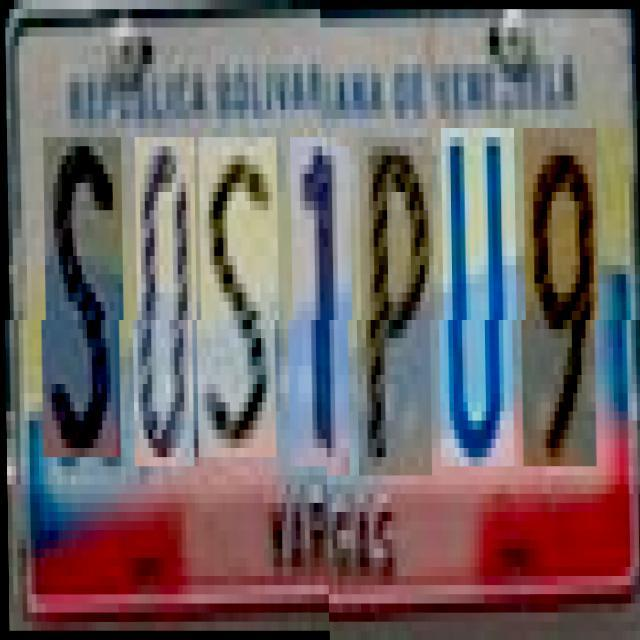0: (134, 147, 198, 476)
1: (290, 147, 352, 476)
9: (522, 128, 600, 466)
P: (358, 137, 435, 476)
S: (198, 146, 280, 466), (43, 146, 124, 466)
U: (440, 128, 518, 466)
